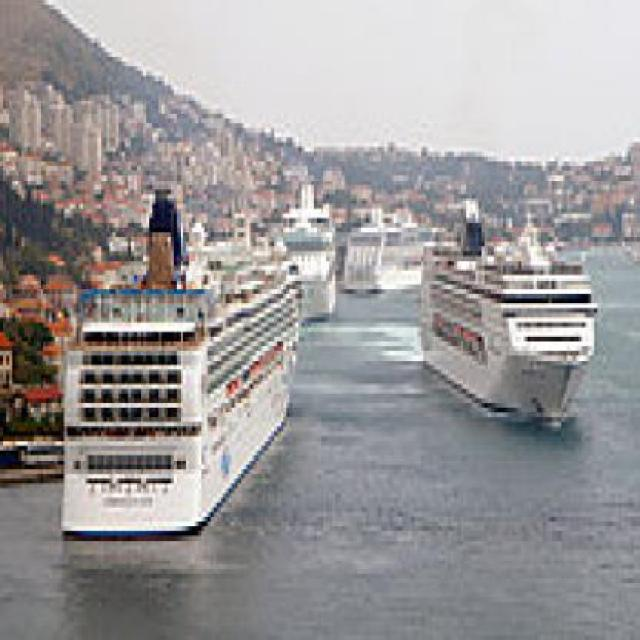cruise: (47, 176, 316, 551), (400, 181, 611, 447)
